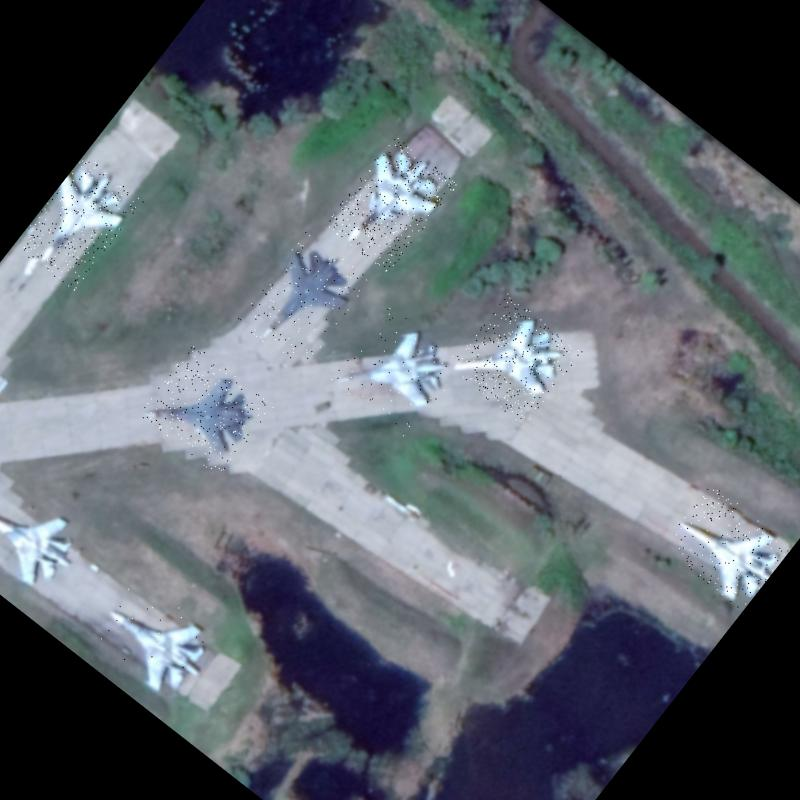A1: (236, 230, 372, 372), (86, 574, 228, 710), (331, 303, 466, 439), (138, 344, 274, 478), (448, 294, 582, 428), (14, 154, 144, 292), (660, 483, 792, 612), (0, 470, 96, 602)
A19: (324, 135, 458, 275)
